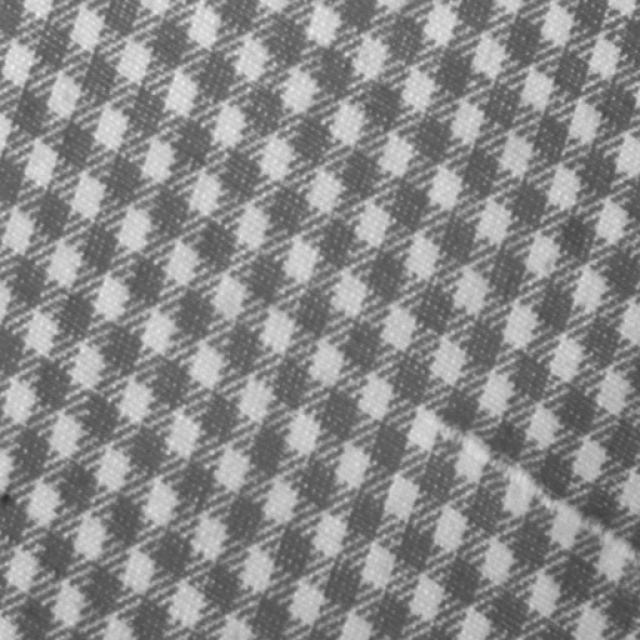Thread-Defect: (416, 402, 639, 560)
